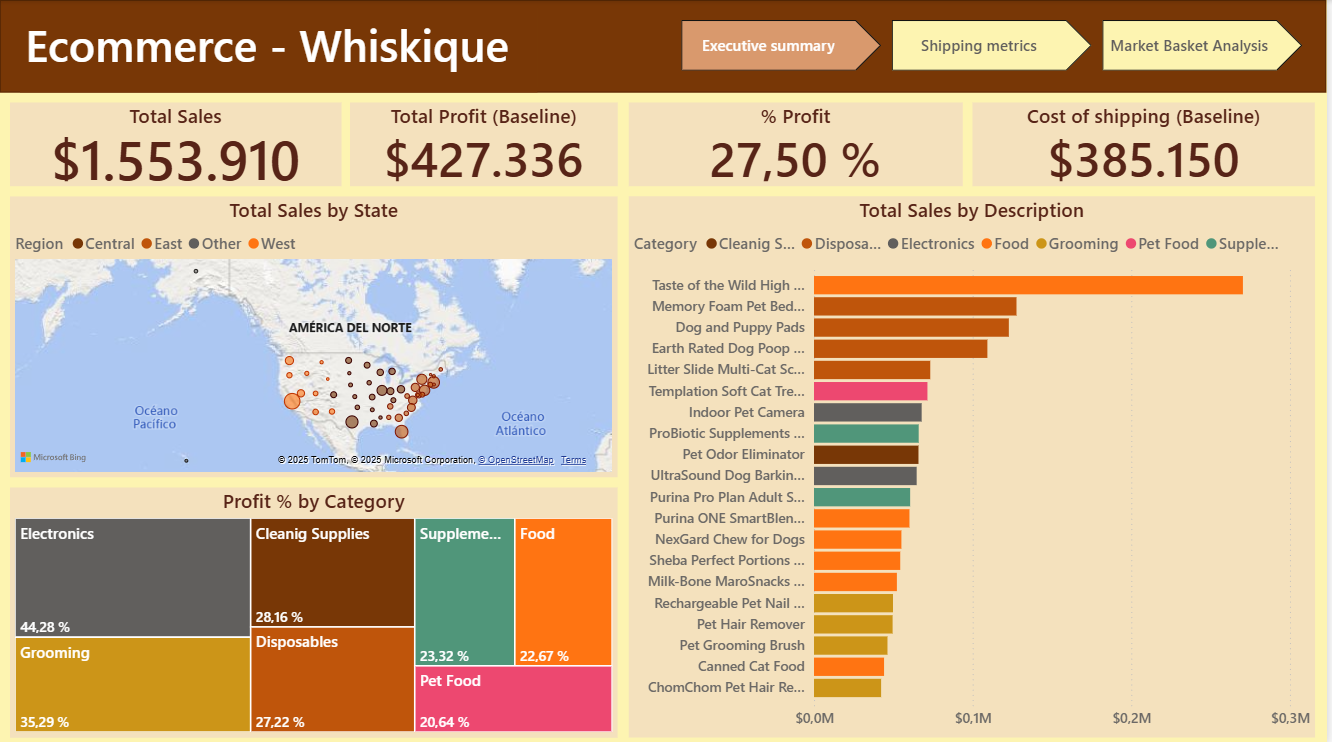

The dashboard page shown, as its layout file describes it:
{"tool":"powerbi","page":{"name":"Executive summary","canvas":[1280,720],"ordinal":0},"visuals":[{"type":"map","title":"Total Sales by State","fields":{"Category":["State Mapping.State"],"Size":["Sum(Sales.Sales)"],"Series":["State Mapping.Region"]},"box":[9.7,189.4,586.3,271.4],"z":0},{"type":"card","title":"Total Sales","fields":{"Values":["Sum(Sales.Sales)"]},"box":[9.7,98.9,319.7,80.8],"z":1000},{"type":"card","title":"Total Profit (Baseline)","fields":{"Values":["Sum(Sales.Profit (Baseline))"]},"box":[337.8,98.9,258.2,80.8],"z":2000},{"type":"card","title":"% Profit","fields":{"Values":["New_Measures.Profit %"]},"box":[606.8,98.9,322.1,80.8],"z":3000},{"type":"card","title":"Cost of shipping (Baseline)","fields":{"Values":["Sales.Shipping (Baseline)"]},"box":[938.6,98.9,330.6,80.8],"z":4000},{"type":"barChart","title":"Total Sales by Description","fields":{"Category":["Products.Description"],"Y":["Sum(Sales.Sales)"],"Series":["Products.Category"]},"box":[606.8,189.4,662.3,522.4],"z":5000},{"type":"treemap","fields":{"Values":["New_Measures.Profit %"],"Group":["Products.Category","Products.Description"]},"box":[9.7,470.5,586.3,241.3],"z":6000},{"type":"shape","box":[0,0,1280,89.3],"z":7000},{"type":"textbox","box":[19.3,8.4,499.5,80.8],"z":8000},{"type":"pageNavigator","box":[657.5,19.3,599.6,49.5],"z":9000}]}

Visuals, with their boxes in screenshot pixels (x1, y1, x2, y2), scaled from the page's 1280x720 canvas onto the 1332x742 screenshot:
"Total Sales by State" map: Rect(10, 195, 620, 475)
"Total Sales" card: Rect(10, 102, 343, 185)
"Total Profit (Baseline)" card: Rect(352, 102, 620, 185)
"% Profit" card: Rect(631, 102, 967, 185)
"Cost of shipping (Baseline)" card: Rect(977, 102, 1321, 185)
"Total Sales by Description" barChart: Rect(631, 195, 1321, 734)
treemap - New_Measures.Profit % x Products.Category: Rect(10, 485, 620, 734)
shape: Rect(0, 0, 1331, 92)
textbox: Rect(20, 9, 540, 92)
pageNavigator: Rect(684, 20, 1308, 71)
